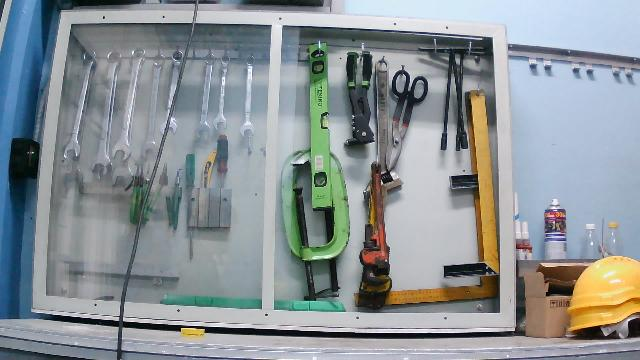water_pass: (307, 41, 335, 212)
